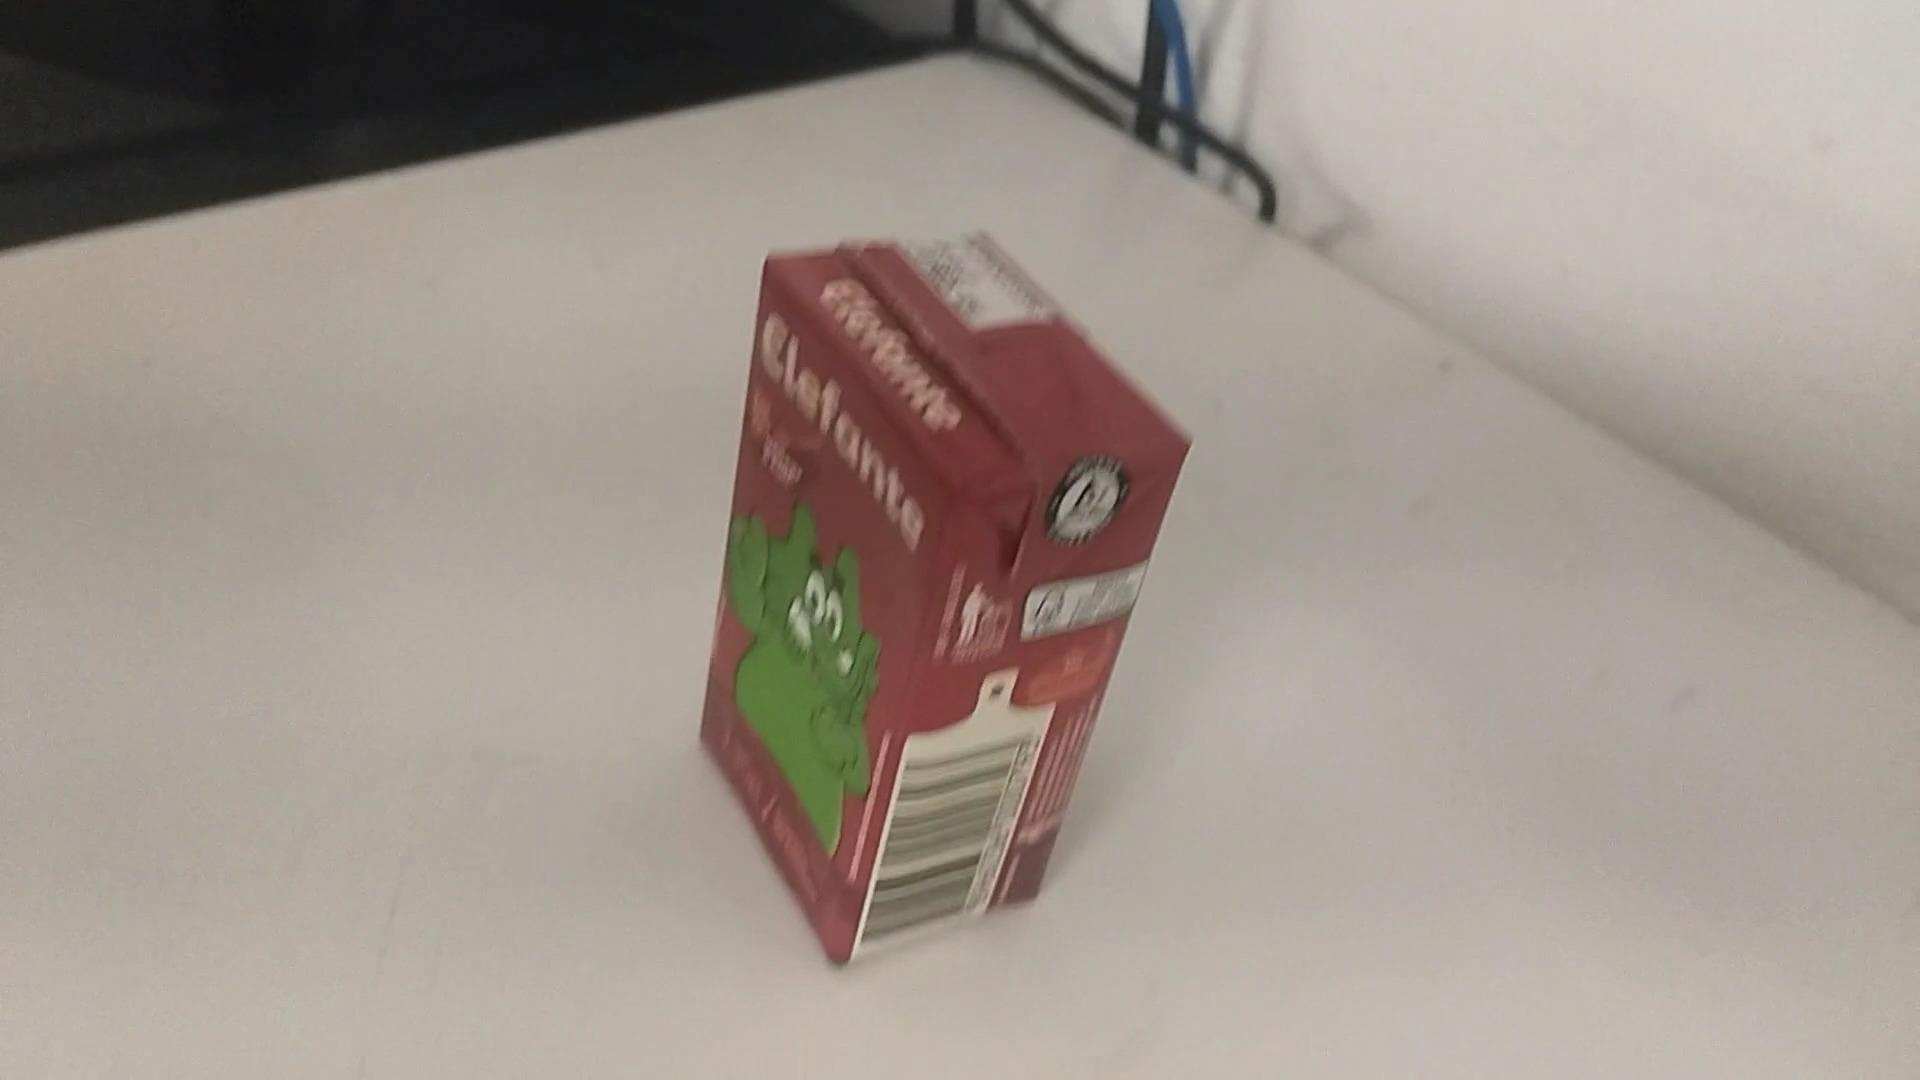tomate: (691, 212, 1204, 967)
